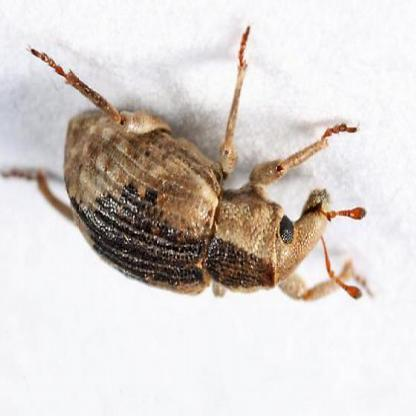rice-bug: (40, 37, 366, 298)
